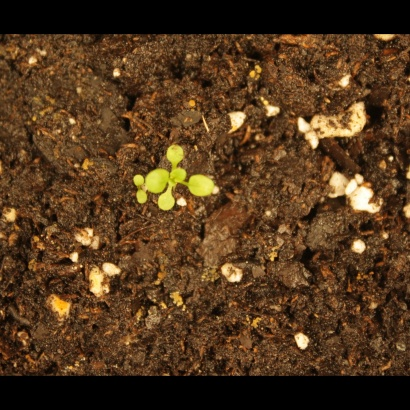leaf: (186, 172, 217, 201), (143, 167, 171, 195), (165, 142, 188, 167), (122, 165, 145, 188), (127, 190, 150, 213), (156, 189, 179, 212), (168, 164, 191, 187)
